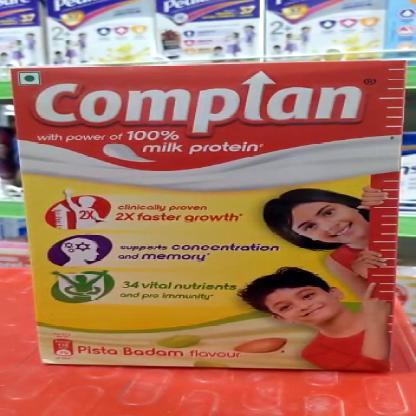Complan Pista Badam: (6, 57, 410, 378)
